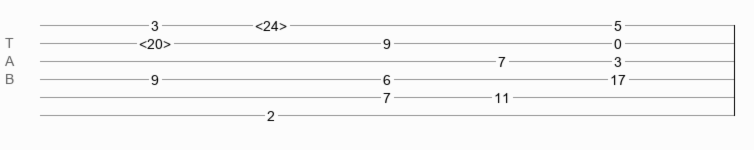0: (614, 36, 622, 46)
11: (494, 90, 510, 100)
17: (610, 72, 626, 82)
2: (267, 108, 275, 118)
3: (151, 18, 159, 28), (614, 54, 622, 64)
5: (614, 18, 622, 28)
6: (383, 72, 391, 82)
7: (383, 90, 391, 100), (498, 54, 506, 64)
9: (151, 72, 159, 82), (383, 36, 391, 46)
harmonic: (139, 36, 171, 46), (255, 18, 287, 28)
